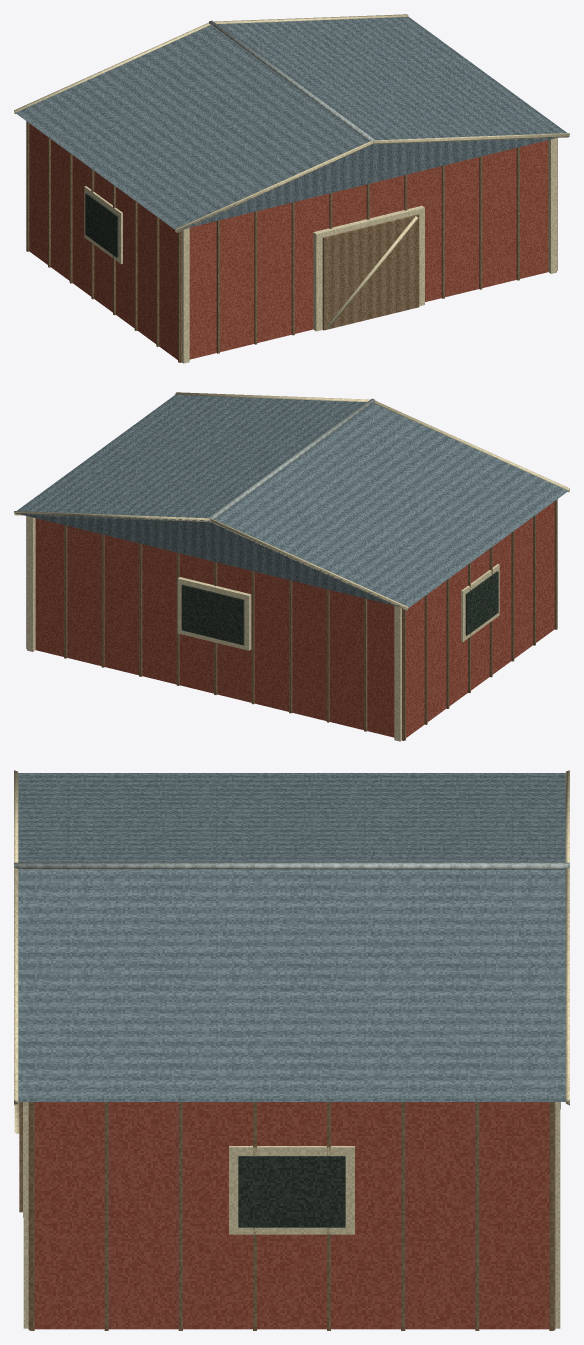
Rendered from farm_shed.glb.
3 renders of one model, top to bottom at view 1: azimuth 30°, elevation 25°; view 2: azimuth 150°, elevation 25°; view 3: azimuth 270°, elevation 25°, orthographic. The views are drawn at different scales.
Parts seen in each view (by area): view 1: parcel_farm_shed roof, parcel_farm_shed red, parcel_farm_shed wood, parcel_farm_shed cream, parcel_farm_shed dark, parcel_farm_shed metal; view 2: parcel_farm_shed roof, parcel_farm_shed red, parcel_farm_shed wood, parcel_farm_shed cream, parcel_farm_shed dark, parcel_farm_shed metal; view 3: parcel_farm_shed roof, parcel_farm_shed red, parcel_farm_shed cream, parcel_farm_shed wood, parcel_farm_shed dark, parcel_farm_shed metal.
Part boxes in pixels (x1,y1,x2,y2): parcel_farm_shed roof: (14,17,566,230); parcel_farm_shed red: (29,123,548,359); parcel_farm_shed wood: (26,121,557,362); parcel_farm_shed cream: (14,14,569,363); parcel_farm_shed dark: (85,193,118,257); parcel_farm_shed metal: (208,20,374,142); parcel_farm_shed roof: (15,395,568,608); parcel_farm_shed red: (35,501,554,737); parcel_farm_shed wood: (26,499,557,740); parcel_farm_shed cream: (14,392,569,741); parcel_farm_shed dark: (181,571,498,645); parcel_farm_shed metal: (209,398,375,520); parcel_farm_shed roof: (14,773,569,1101); parcel_farm_shed red: (34,1102,549,1329); parcel_farm_shed cream: (14,770,569,1328); parcel_farm_shed wood: (19,1102,555,1330); parcel_farm_shed dark: (238,1156,345,1227); parcel_farm_shed metal: (14,862,569,869).
Size of what is drawn, in the model's own units: 10.5 by 4.6 by 7.5.
6 materials, 6 textured.
